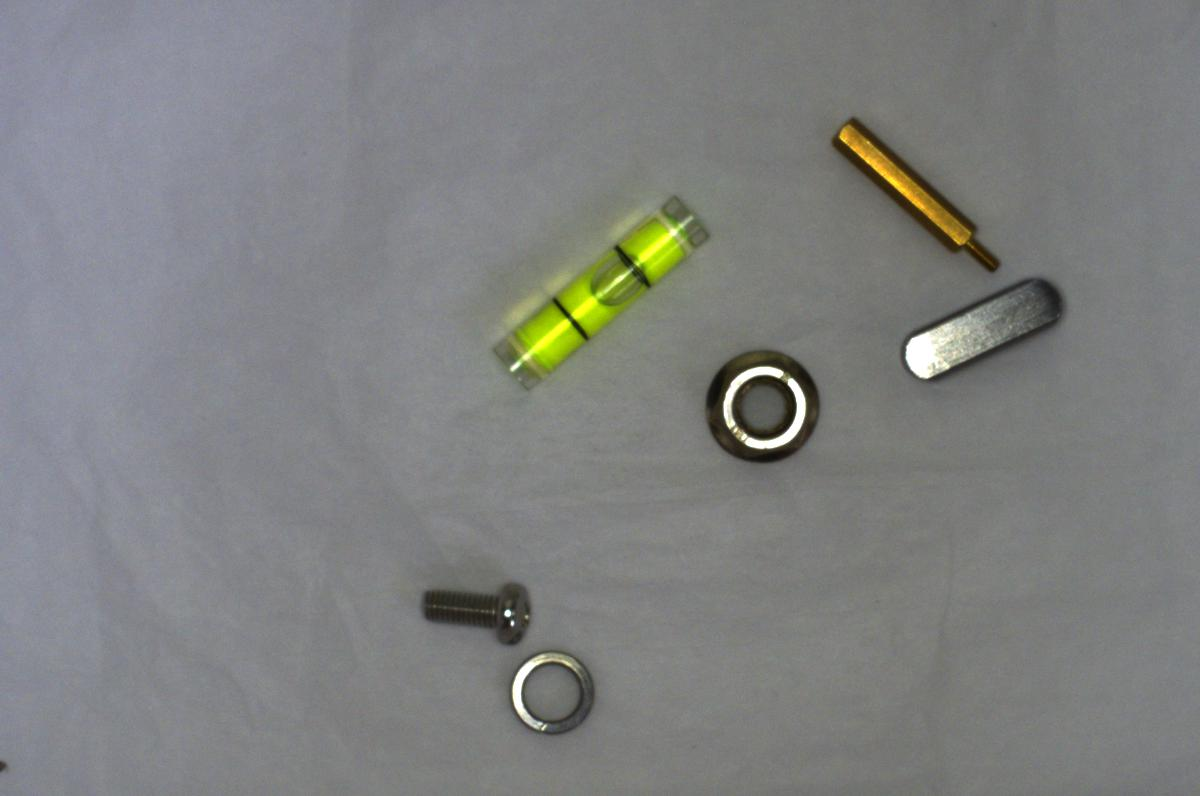Flange nut: (698, 343, 833, 462)
Hexagon pillar: (828, 110, 1004, 273)
Horizontal bubble: (486, 187, 706, 389)
Keybar: (888, 272, 1078, 388)
Round head screw: (417, 565, 537, 648)
Spring washer: (501, 640, 607, 740)
